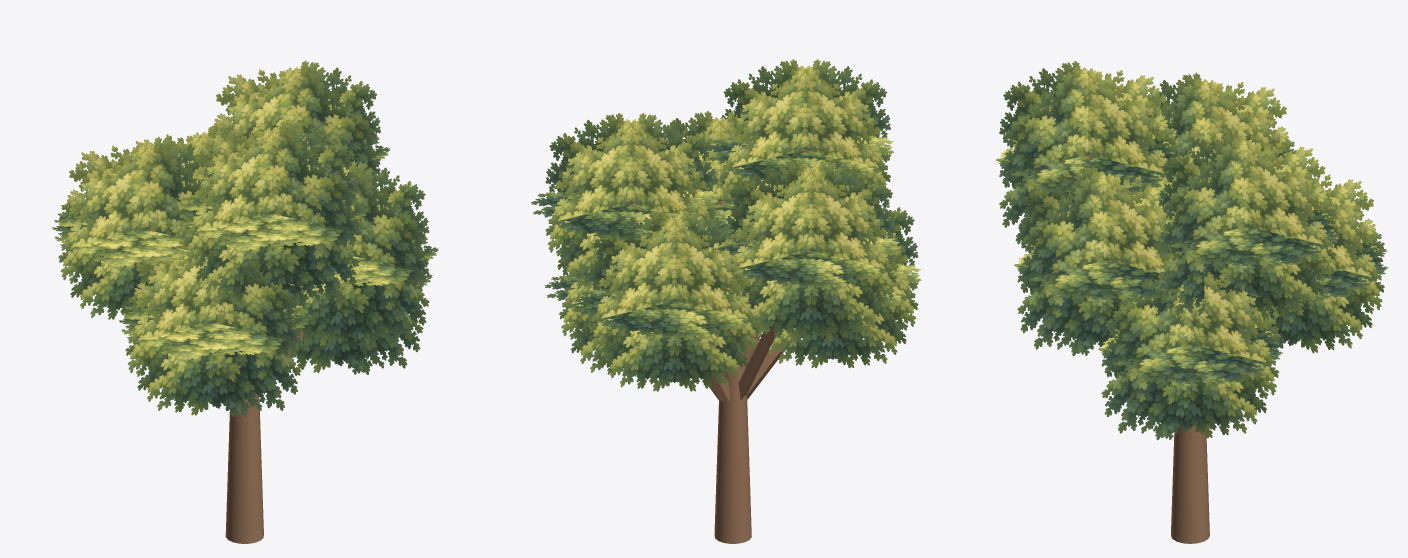
Rendered from tree.glb.
3 views of the same model, side by side, from view 1: azimuth 30°, elevation 25°; view 2: azimuth 150°, elevation 25°; view 3: azimuth 270°, elevation 25° (orthographic). The views are drawn at different scales.
Visible parts, largest first — view 1: _MeshInstance3D_251, _MeshInstance3D_243; view 2: _MeshInstance3D_251, _MeshInstance3D_243, _MeshInstance3D_248; view 3: _MeshInstance3D_251, _MeshInstance3D_243.
Part boxes in pixels (x1=…): _MeshInstance3D_251: x1=52, y1=60, x2=438, y2=417; _MeshInstance3D_243: x1=225, y1=393, x2=263, y2=543; _MeshInstance3D_251: x1=531, y1=59, x2=921, y2=391; _MeshInstance3D_243: x1=714, y1=342, x2=751, y2=543; _MeshInstance3D_248: x1=738, y1=250, x2=810, y2=400; _MeshInstance3D_251: x1=995, y1=61, x2=1388, y2=440; _MeshInstance3D_243: x1=1171, y1=425, x2=1209, y2=543.
Size of the model in its own units: 2.59 by 3.15 by 2.48.
Materials: 2 (1 with a texture image).
